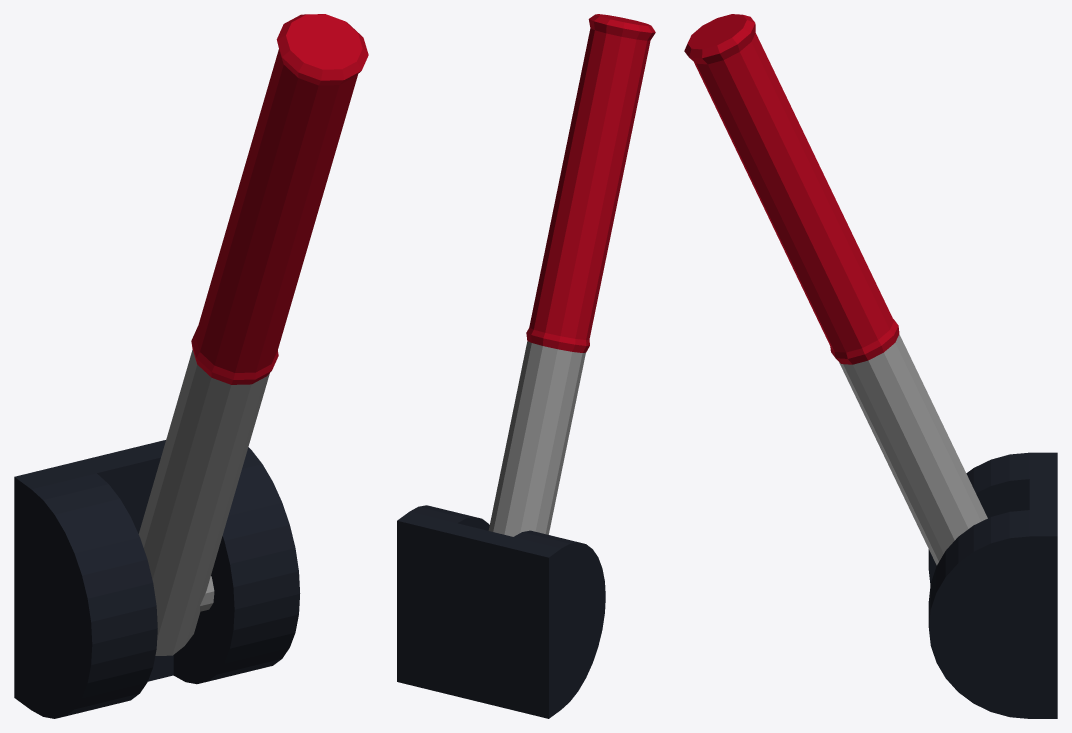
The model's file is props.fbx_lever6.fbx.
3 views of the same model, side by side, from view 1: azimuth 30°, elevation 25°; view 2: azimuth 150°, elevation 25°; view 3: azimuth 270°, elevation 25° (orthographic). The views are drawn at different scales.
Visible parts, largest first — view 1: Cylinder.006, Cylinder.007; view 2: Cylinder.006, Cylinder.007; view 3: Cylinder.007, Cylinder.006.
Part boxes in pixels (left/top/right/bottom): Cylinder.006: left=14, top=440, right=300, bottom=718; Cylinder.007: left=138, top=14, right=368, bottom=655; Cylinder.006: left=397, top=505, right=605, bottom=718; Cylinder.007: left=488, top=14, right=655, bottom=536; Cylinder.007: left=684, top=14, right=987, bottom=565; Cylinder.006: left=928, top=452, right=1057, bottom=718.
Size of the model in its own units: 0.0855 by 0.3126 by 0.161.
